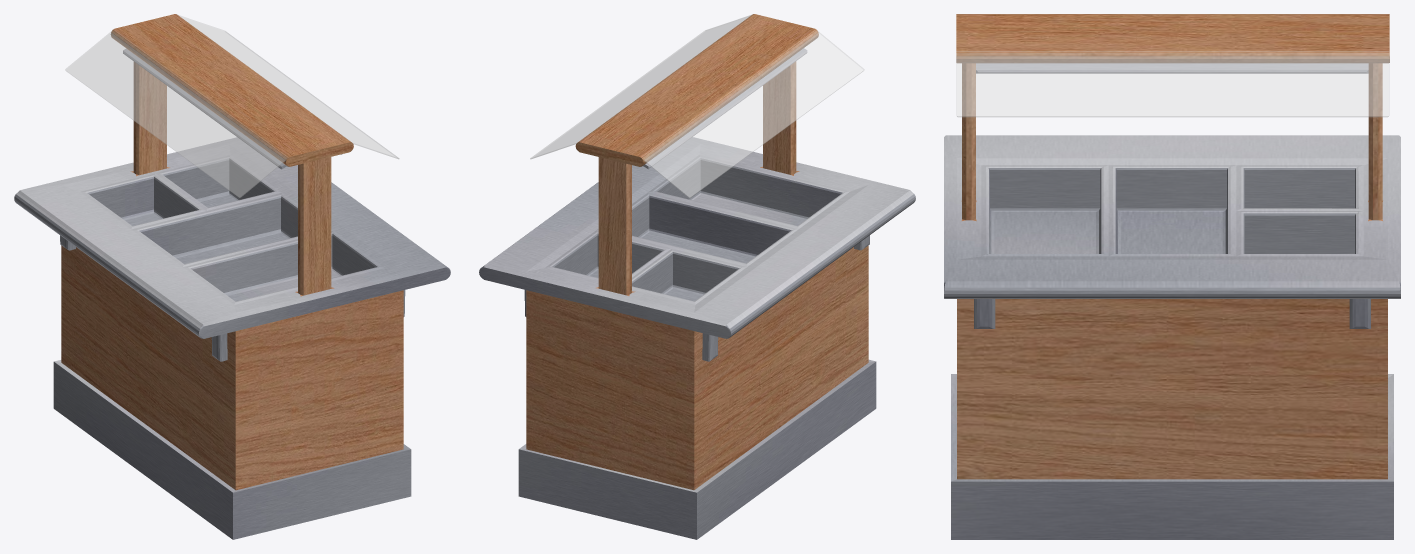
The model's file is CafeBar.fbx.
3 views of the same model, side by side, from view 1: azimuth 30°, elevation 25°; view 2: azimuth 150°, elevation 25°; view 3: azimuth 270°, elevation 25° (orthographic). The views are drawn at different scales.
Parts seen in each view (by area): view 1: FoodBar; view 2: FoodBar; view 3: FoodBar.
Part boxes in pixels (left/top/right/bottom): FoodBar: left=14, top=14, right=450, bottom=539; FoodBar: left=479, top=14, right=915, bottom=539; FoodBar: left=944, top=14, right=1400, bottom=539.
Size of the model in its own units: 300 by 418 by 381.
